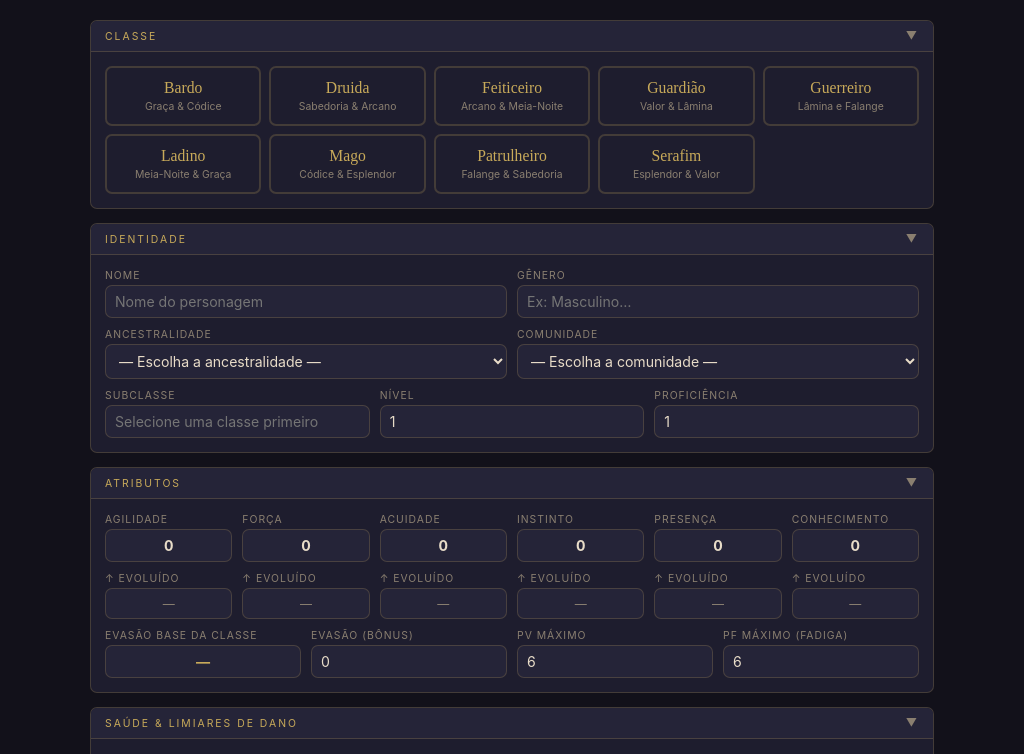
Test case: FormScreen — seções colapsáveis › click novamente no header reabre a seção
The image size is (1024, 754).
Click the text "Identidade" at (512, 240), box [91,224,933,255]
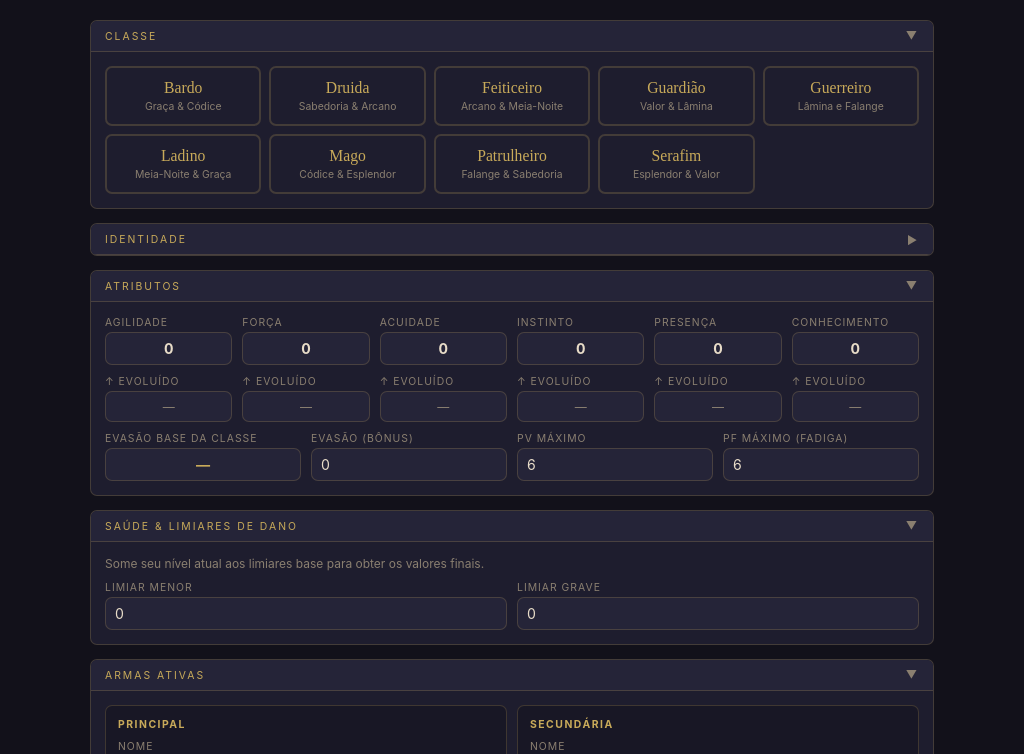
Click the text "Identidade" at (512, 240), box [91,224,933,255]
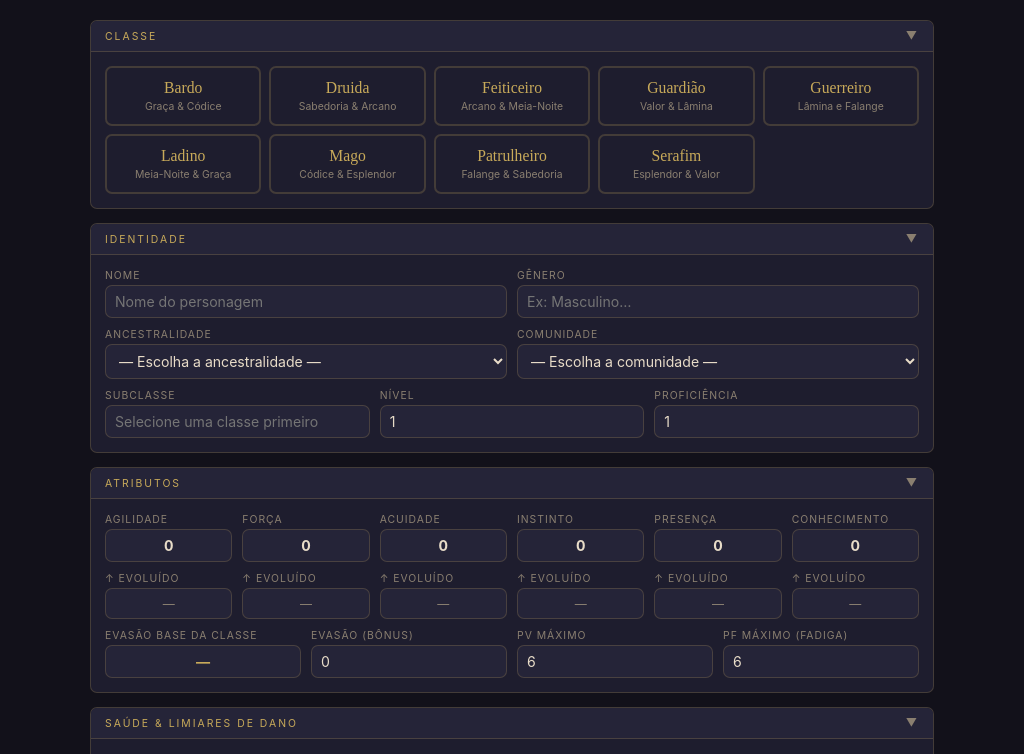
Check: the field with placeholder "Nome do personagem" is shown, box [105,285,507,318]
